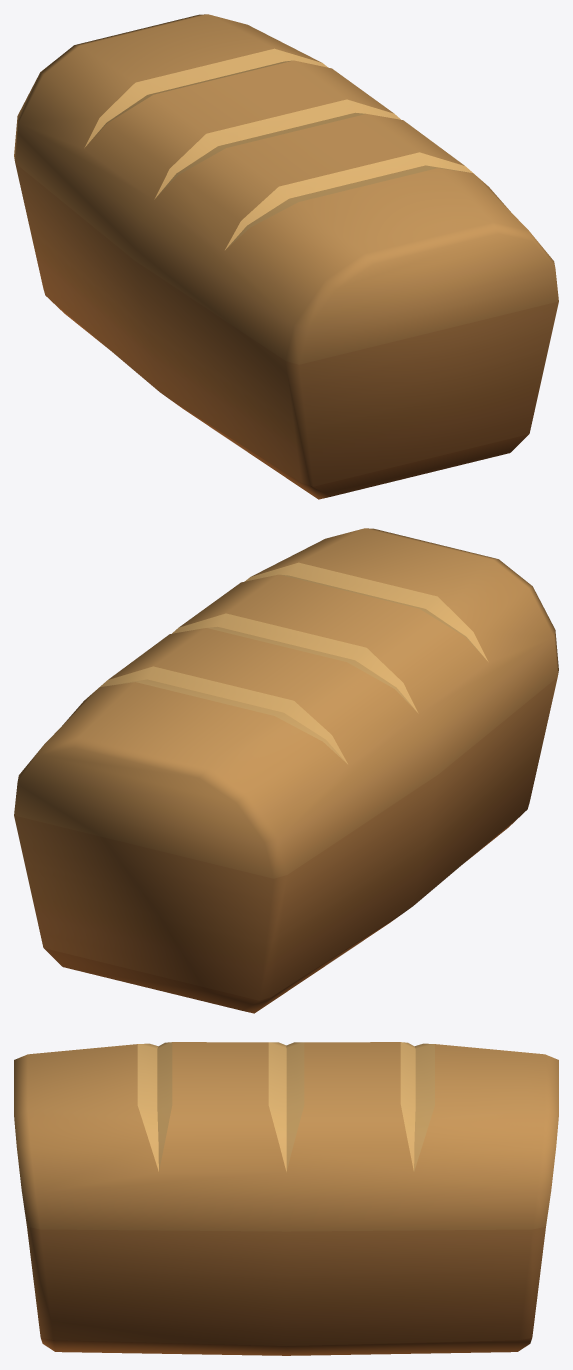
The model's file is Bread_1_A.glb.
The picture shows the model from 3 angles, top to bottom: view 1: azimuth 30°, elevation 25°; view 2: azimuth 150°, elevation 25°; view 3: azimuth 270°, elevation 25°; orthographic projection. The views are drawn at different scales.
Parts seen in each view (by area): view 1: Bread_1_A; view 2: Bread_1_A; view 3: Bread_1_A.
Part boxes in pixels (x1,y1,x2,y2): Bread_1_A: [14, 14, 558, 499]; Bread_1_A: [14, 528, 558, 1013]; Bread_1_A: [14, 1042, 558, 1355].
Bounding box in the file's own units: 0.2297 × 0.1874 × 0.3914.
1 material, 1 textured.
